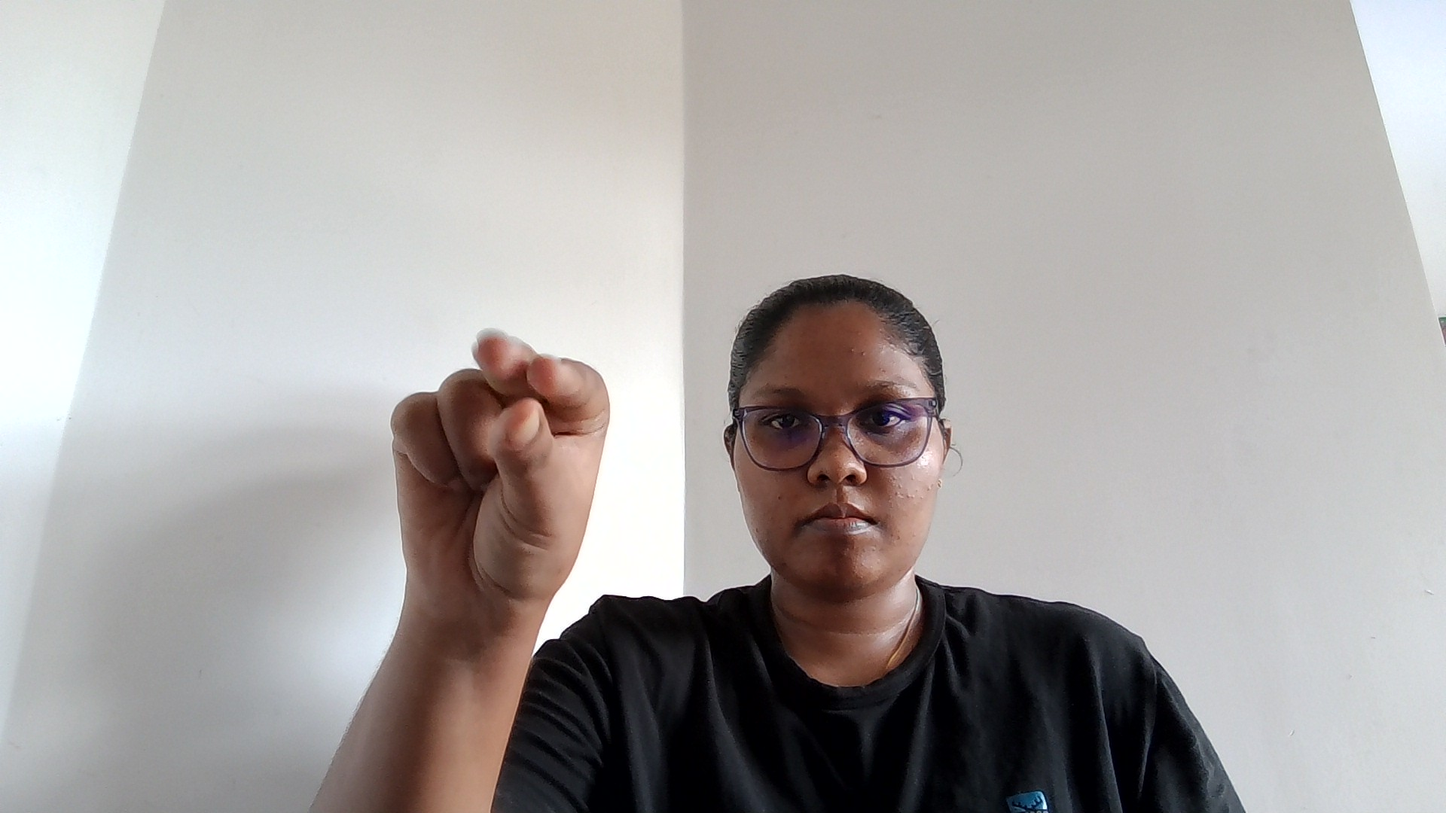No: (296, 252, 644, 552)
